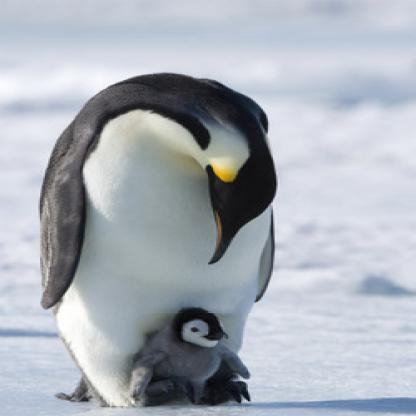Penguin: (21, 66, 292, 415), (117, 286, 281, 414)
